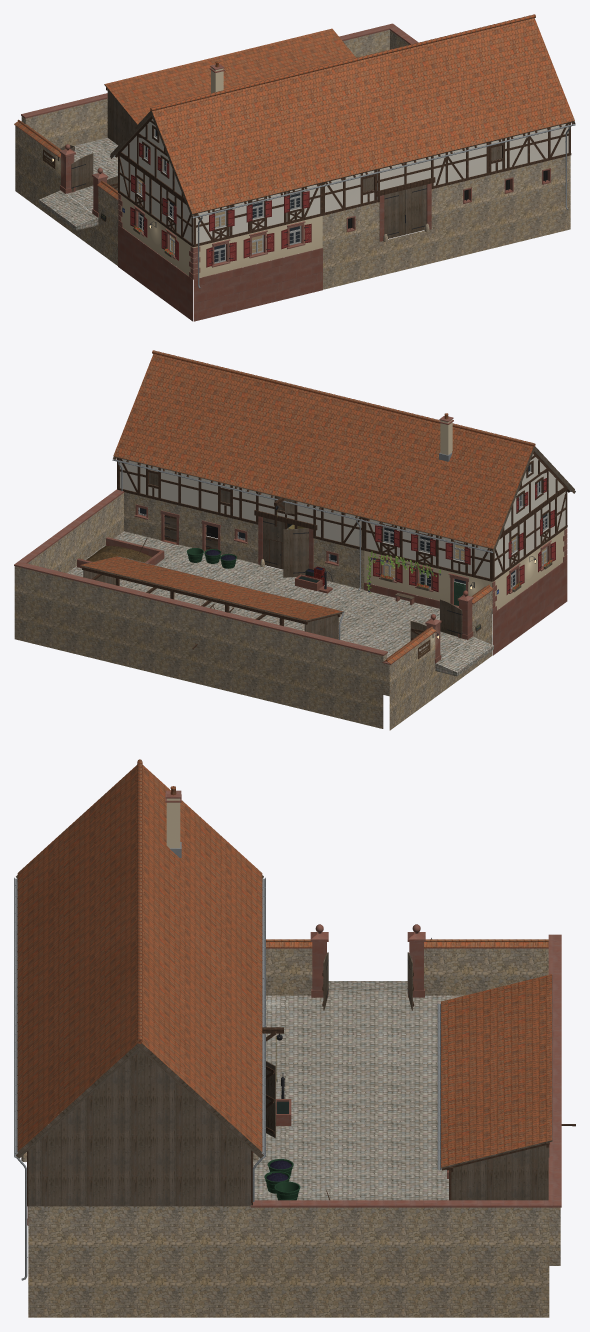
The model's file is winzerhof_barn.glb.
3 views of the same model, one above another, from view 1: azimuth 30°, elevation 25°; view 2: azimuth 150°, elevation 25°; view 3: azimuth 270°, elevation 25° (orthographic). The views are drawn at different scales.
Visible parts, largest first — view 1: Winzerhof_tiles, Winzerhof_rubble_base, Winzerhof_stone, Winzerhof_plaster_base, Winzerhof_beam, Winzerhof_paint, Winzerhof_boards, Winzerhof_cobble, Winzerhof_glass; view 2: Winzerhof_tiles, Winzerhof_rubble_base, Winzerhof_plaster_base, Winzerhof_stone, Winzerhof_cobble, Winzerhof_beam, Winzerhof_boards, Winzerhof_paint, Winzerhof_fol, Winzerhof_glass; view 3: Winzerhof_tiles, Winzerhof_rubble_base, Winzerhof_cobble, Winzerhof_boards, Winzerhof_stone, Winzerhof_paint, Winzerhof_beam, Winzerhof_plaster_base.
Part boxes in pixels (x1,y1,x2,y2): Winzerhof_tiles: (14,14,574,213); Winzerhof_rubble_base: (15,30,570,289); Winzerhof_stone: (14,23,550,321); Winzerhof_plaster_base: (118,67,568,277); Winzerhof_beam: (43,87,573,246); Winzerhof_paint: (52,123,575,288); Winzerhof_boards: (60,84,575,257); Winzerhof_cobble: (39,137,118,230); Winzerhof_glass: (139,130,299,262); Winzerhof_tiles: (81,350,535,663); Winzerhof_rubble_base: (14,492,492,730); Winzerhof_plaster_base: (120,420,566,610); Winzerhof_stone: (14,415,567,664); Winzerhof_cobble: (67,524,493,676); Winzerhof_beam: (82,451,570,659); Winzerhof_boards: (80,446,575,640); Winzerhof_paint: (112,452,575,639); Winzerhof_fol: (205,549,552,593); Winzerhof_glass: (140,465,546,586); Winzerhof_tiles: (17,759,551,1167); Winzerhof_rubble_base: (21,948,560,1317); Winzerhof_cobble: (253,981,463,1200); Winzerhof_boards: (16,875,552,1206); Winzerhof_stone: (27,790,561,1225); Winzerhof_paint: (14,842,441,1280); Winzerhof_beam: (17,898,575,1206); Winzerhof_plaster_base: (166,798,180,848).
Bounding box in the file's own units: 30.98 × 15.22 × 25.15.
Materials: 14 (11 with a texture image).
